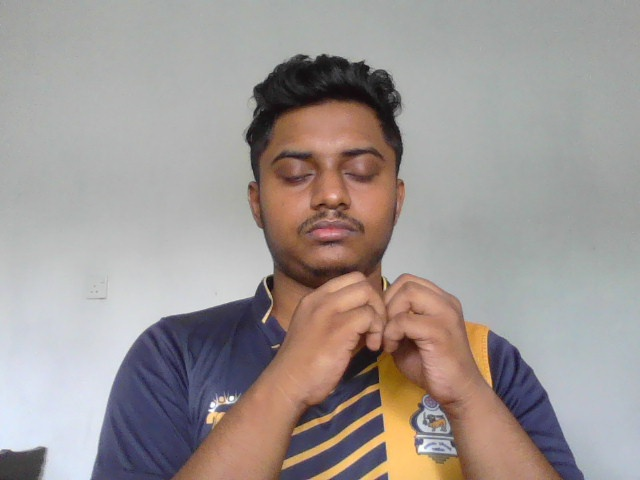More: (258, 264, 484, 406)
